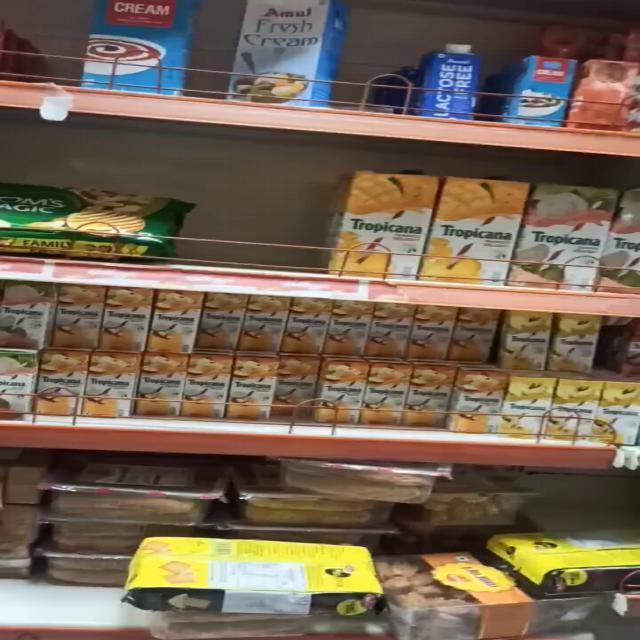Tropicana: (306, 162, 432, 278), (520, 171, 608, 290), (429, 169, 518, 283), (46, 281, 107, 347), (93, 280, 151, 346), (237, 289, 289, 360), (496, 306, 550, 372), (192, 287, 245, 353), (146, 286, 202, 346), (134, 352, 186, 416), (35, 348, 86, 412), (178, 354, 226, 420), (589, 377, 640, 438), (80, 350, 130, 412), (326, 290, 372, 357), (316, 362, 364, 425), (450, 374, 500, 434), (546, 381, 598, 438), (363, 300, 413, 359), (286, 292, 332, 356), (360, 362, 404, 428), (228, 355, 274, 416), (404, 304, 454, 360), (557, 313, 602, 372), (452, 306, 492, 366), (504, 375, 548, 429), (276, 357, 312, 420), (404, 366, 442, 418)
